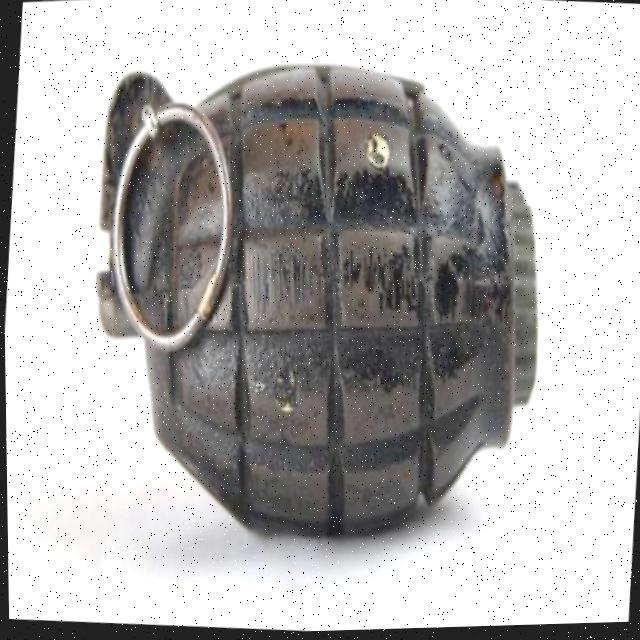grenade: (50, 17, 584, 582)
